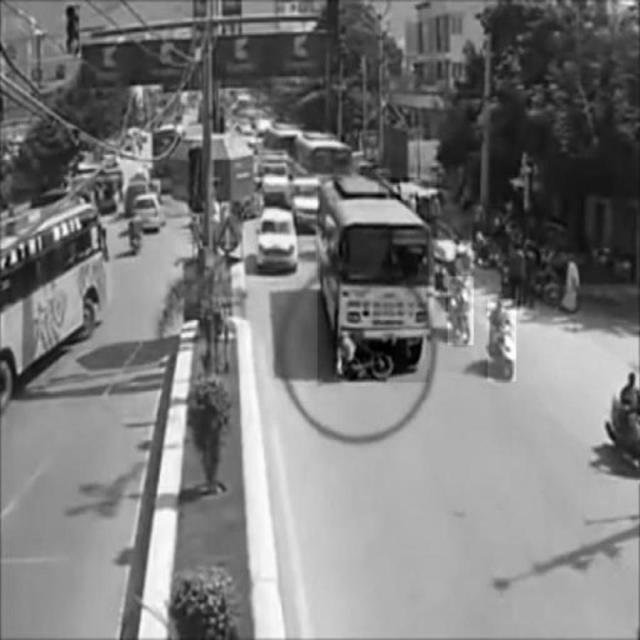accident: (318, 178, 429, 383)
vehicle: (488, 299, 516, 381), (259, 209, 297, 266), (448, 277, 474, 345), (129, 209, 143, 255)
